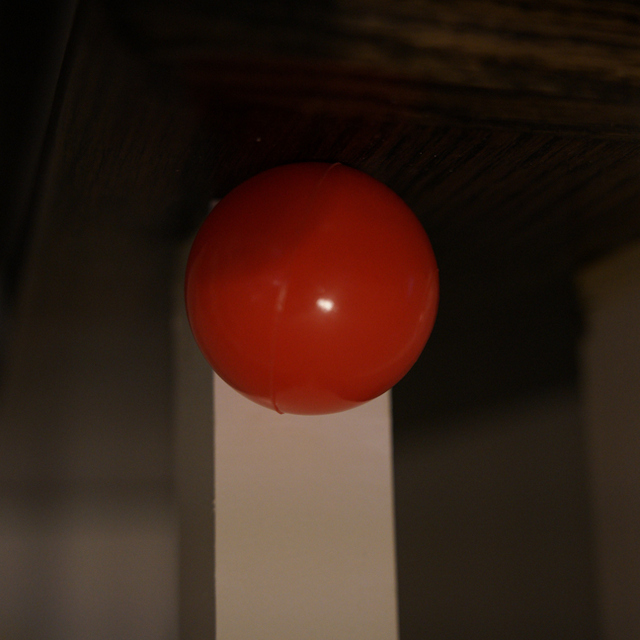Ball: (185, 155, 440, 414)
